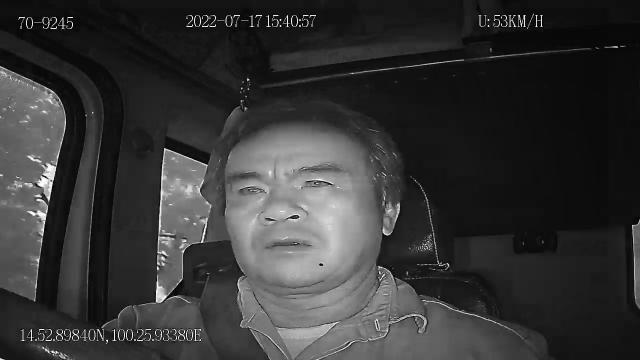SafeDriving: (294, 166, 346, 195), (228, 174, 272, 204)
Seatbelt: (196, 270, 274, 360)
